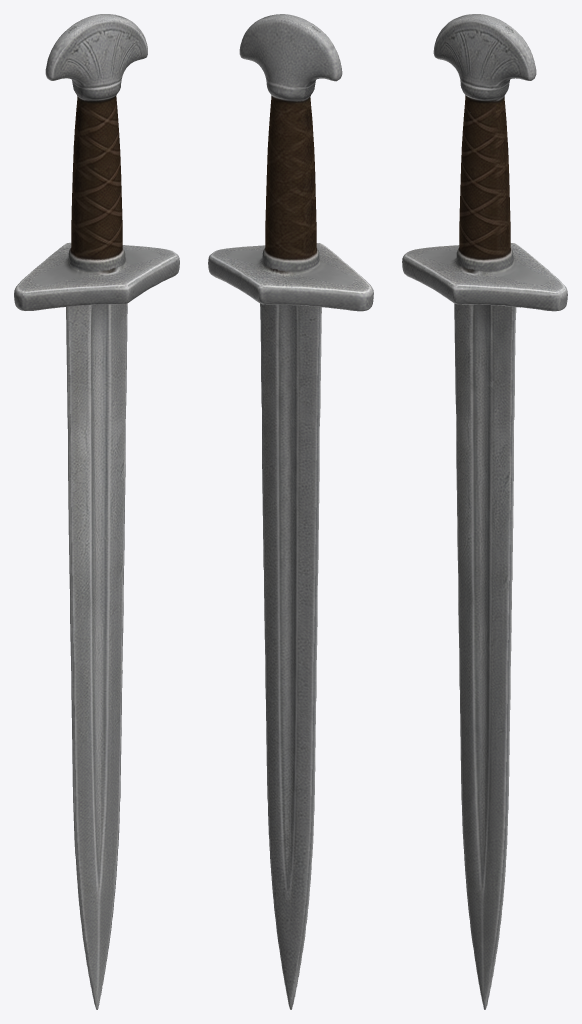
Rendered from Sword3DModel.glb.
The picture shows the model from 3 angles, left to right: view 1: azimuth 30°, elevation 25°; view 2: azimuth 150°, elevation 25°; view 3: azimuth 330°, elevation 25°; orthographic projection.
Bounding box in the file's own units: 0.321 × 1.9 × 0.2144.
Materials: 1 (1 with a texture image).
